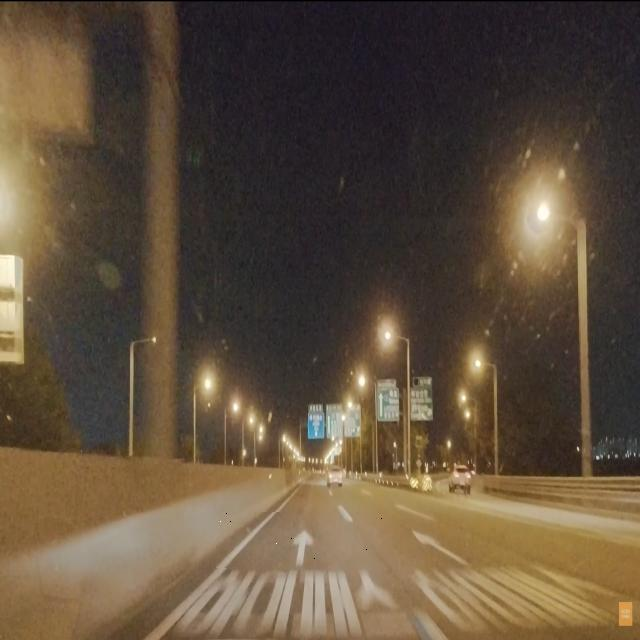forward: (216, 513, 390, 568)
